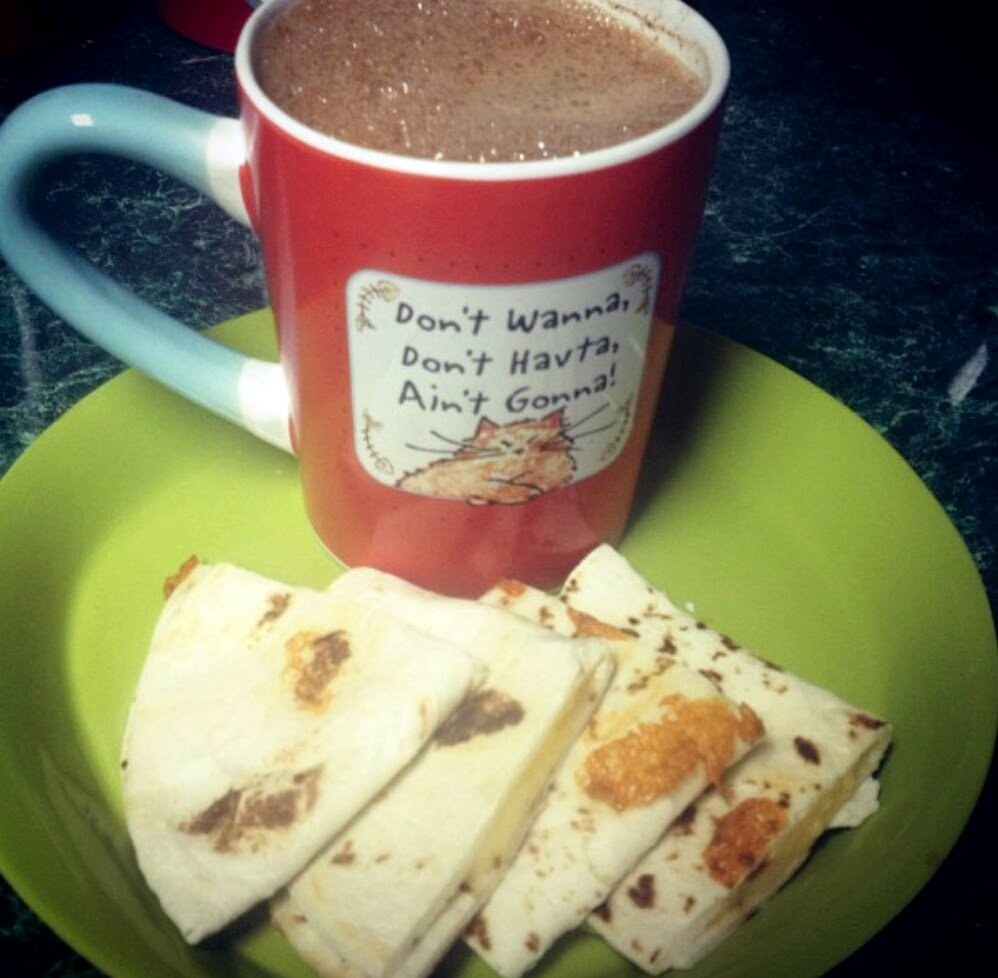background: (396, 0, 998, 248)
